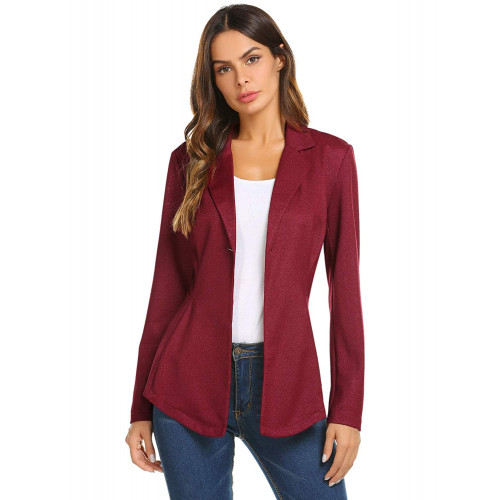F_W_suit jacket: (138, 129, 365, 428)
